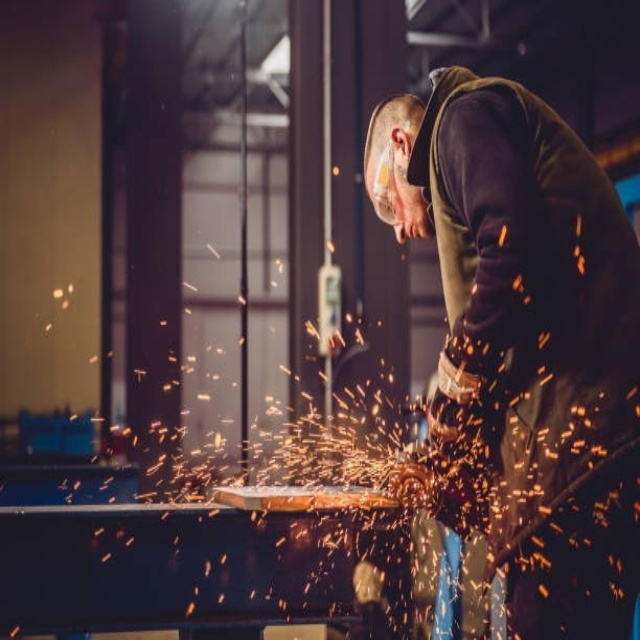Gafas: (372, 133, 395, 222)
Sin_mascara: (405, 213, 432, 245)
